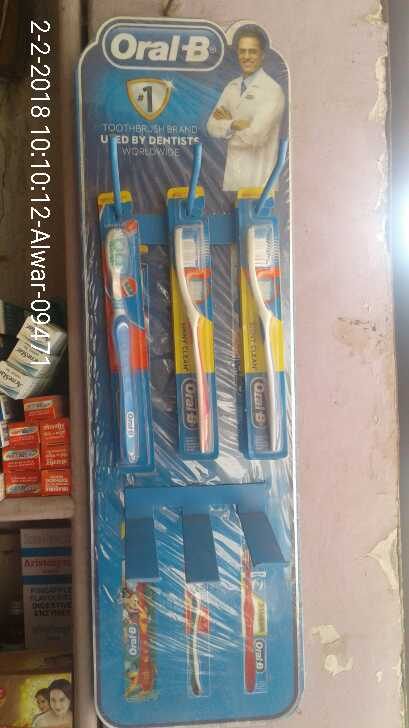oralb: (95, 203, 152, 472), (235, 191, 291, 454), (173, 196, 226, 450)
